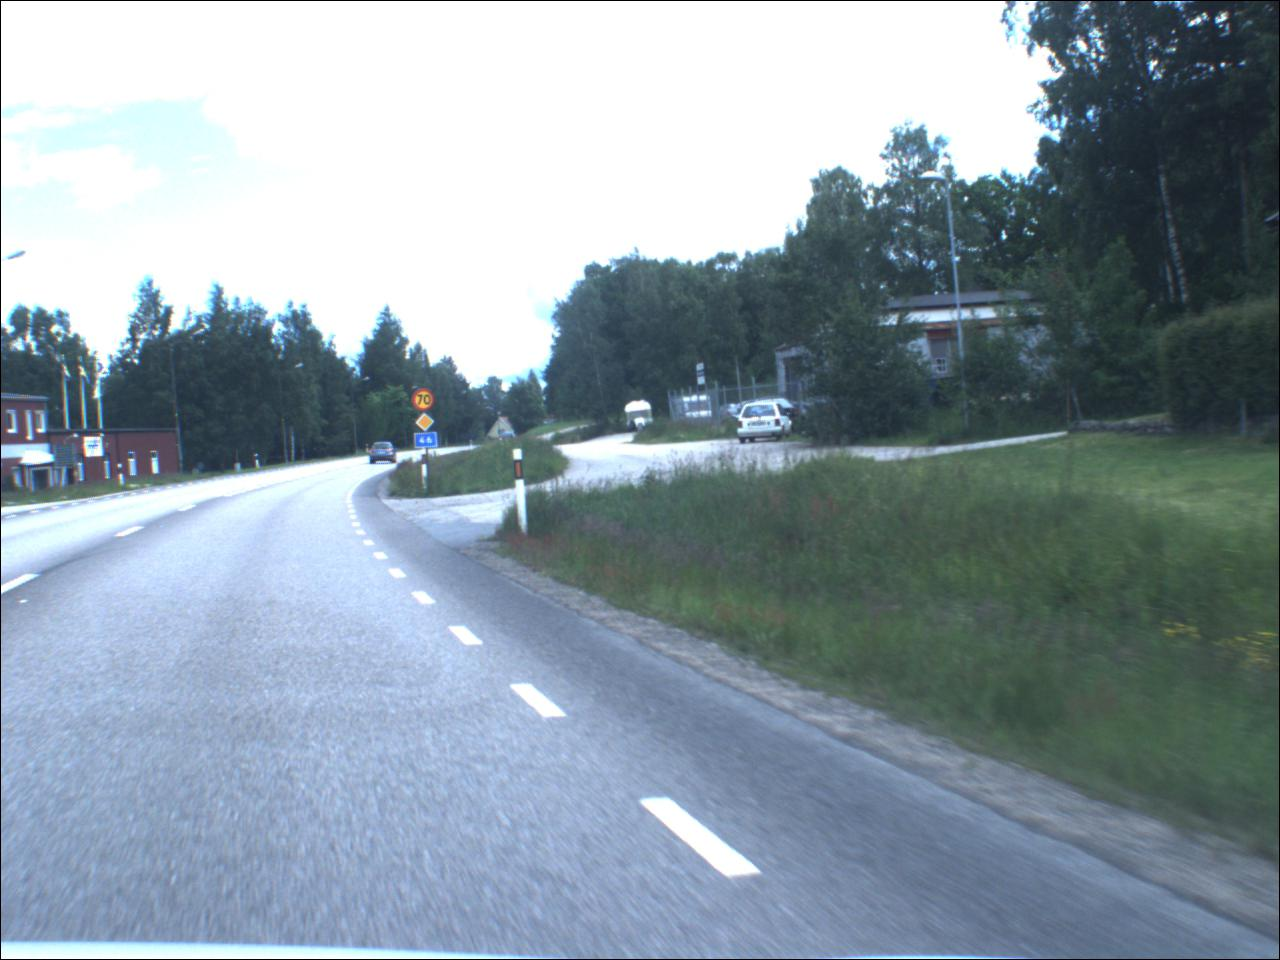70_SIGN: (413, 390, 439, 413)
PRIORITY_ROAD: (417, 414, 439, 434)
